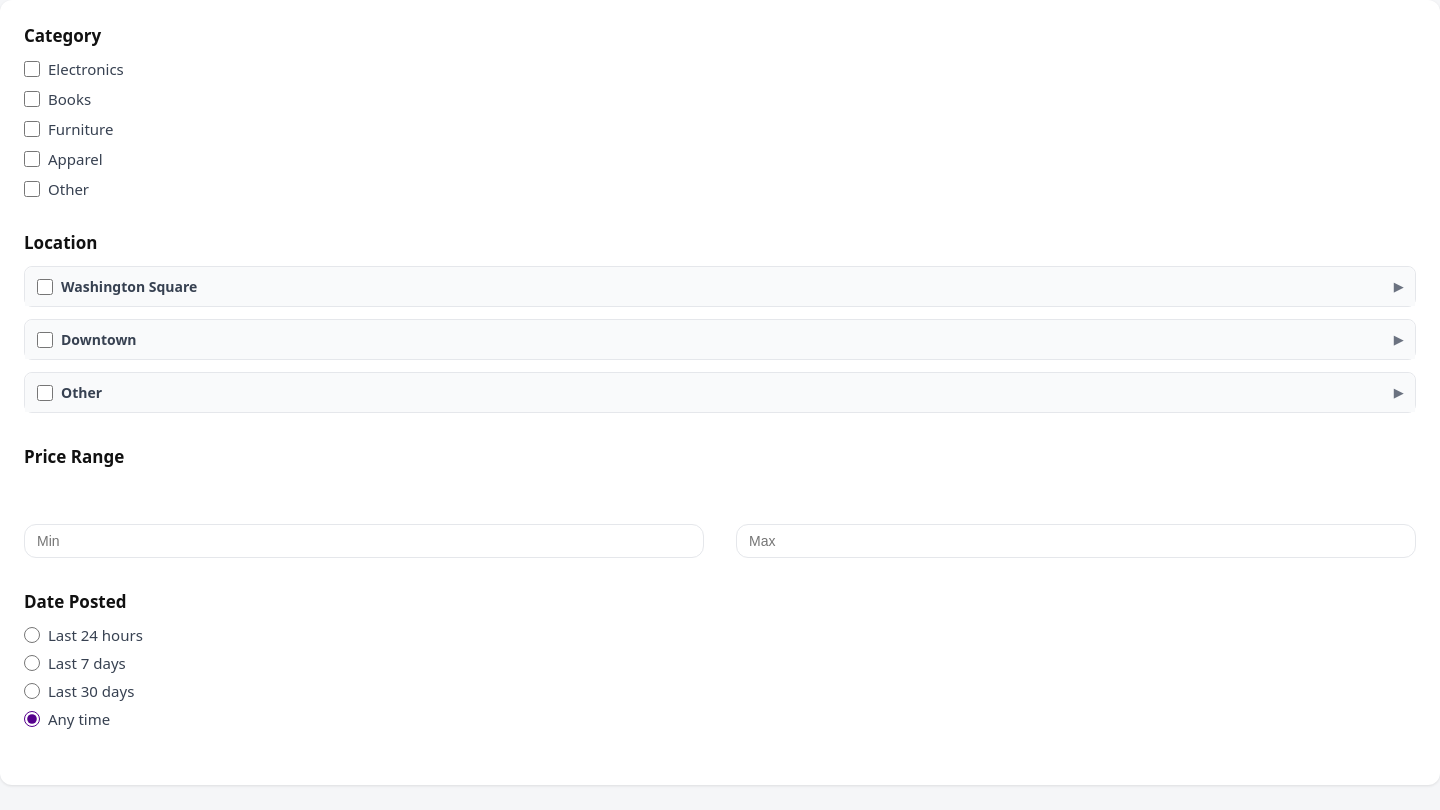
Scenario: Filters › validates minimum price must be >= 0
Type "-10" into the number field labelled "Min price" at coordinates (364, 541), box [24,524,704,558]
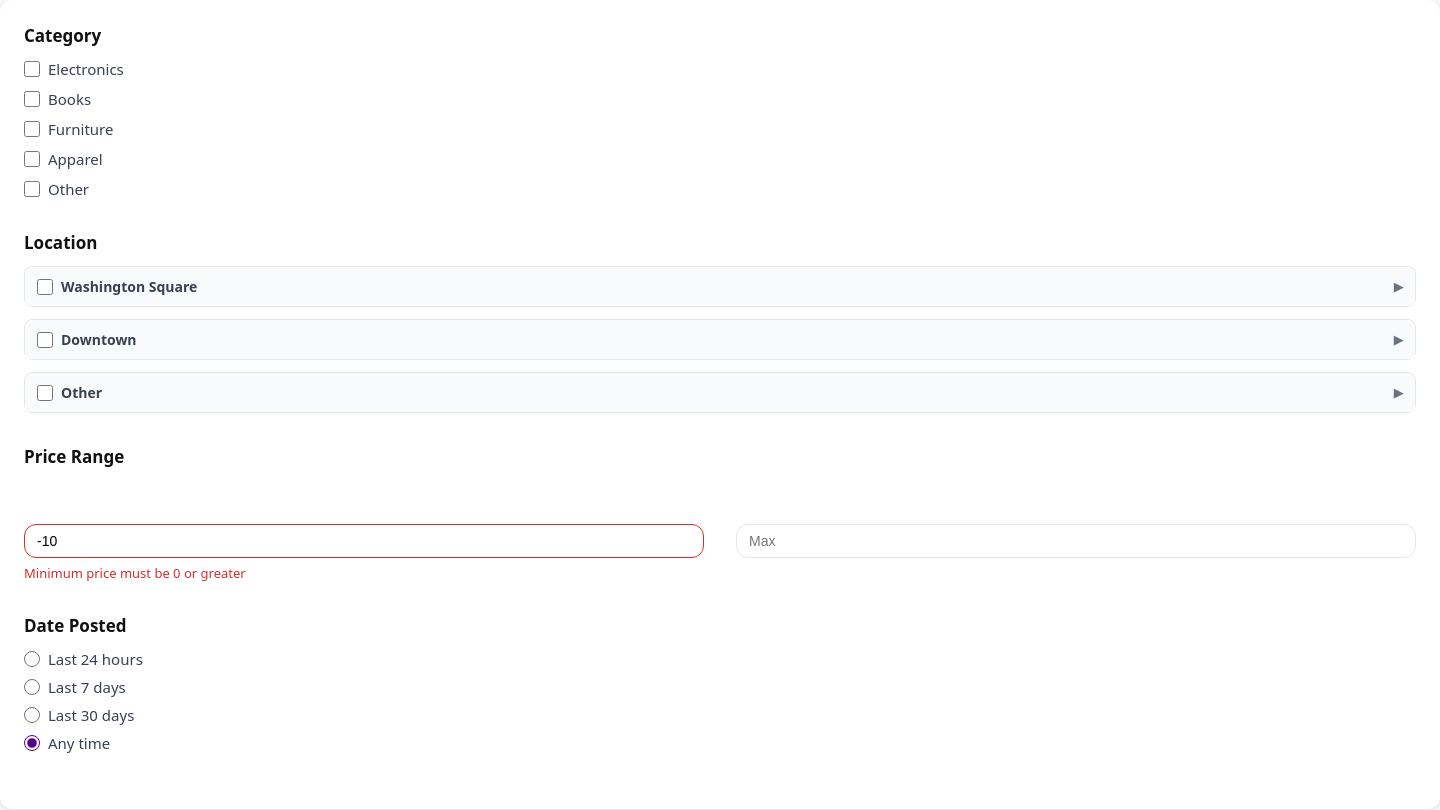
Check: the text "Minimum price must be 0 or greater" is shown, box [24,564,246,582]
